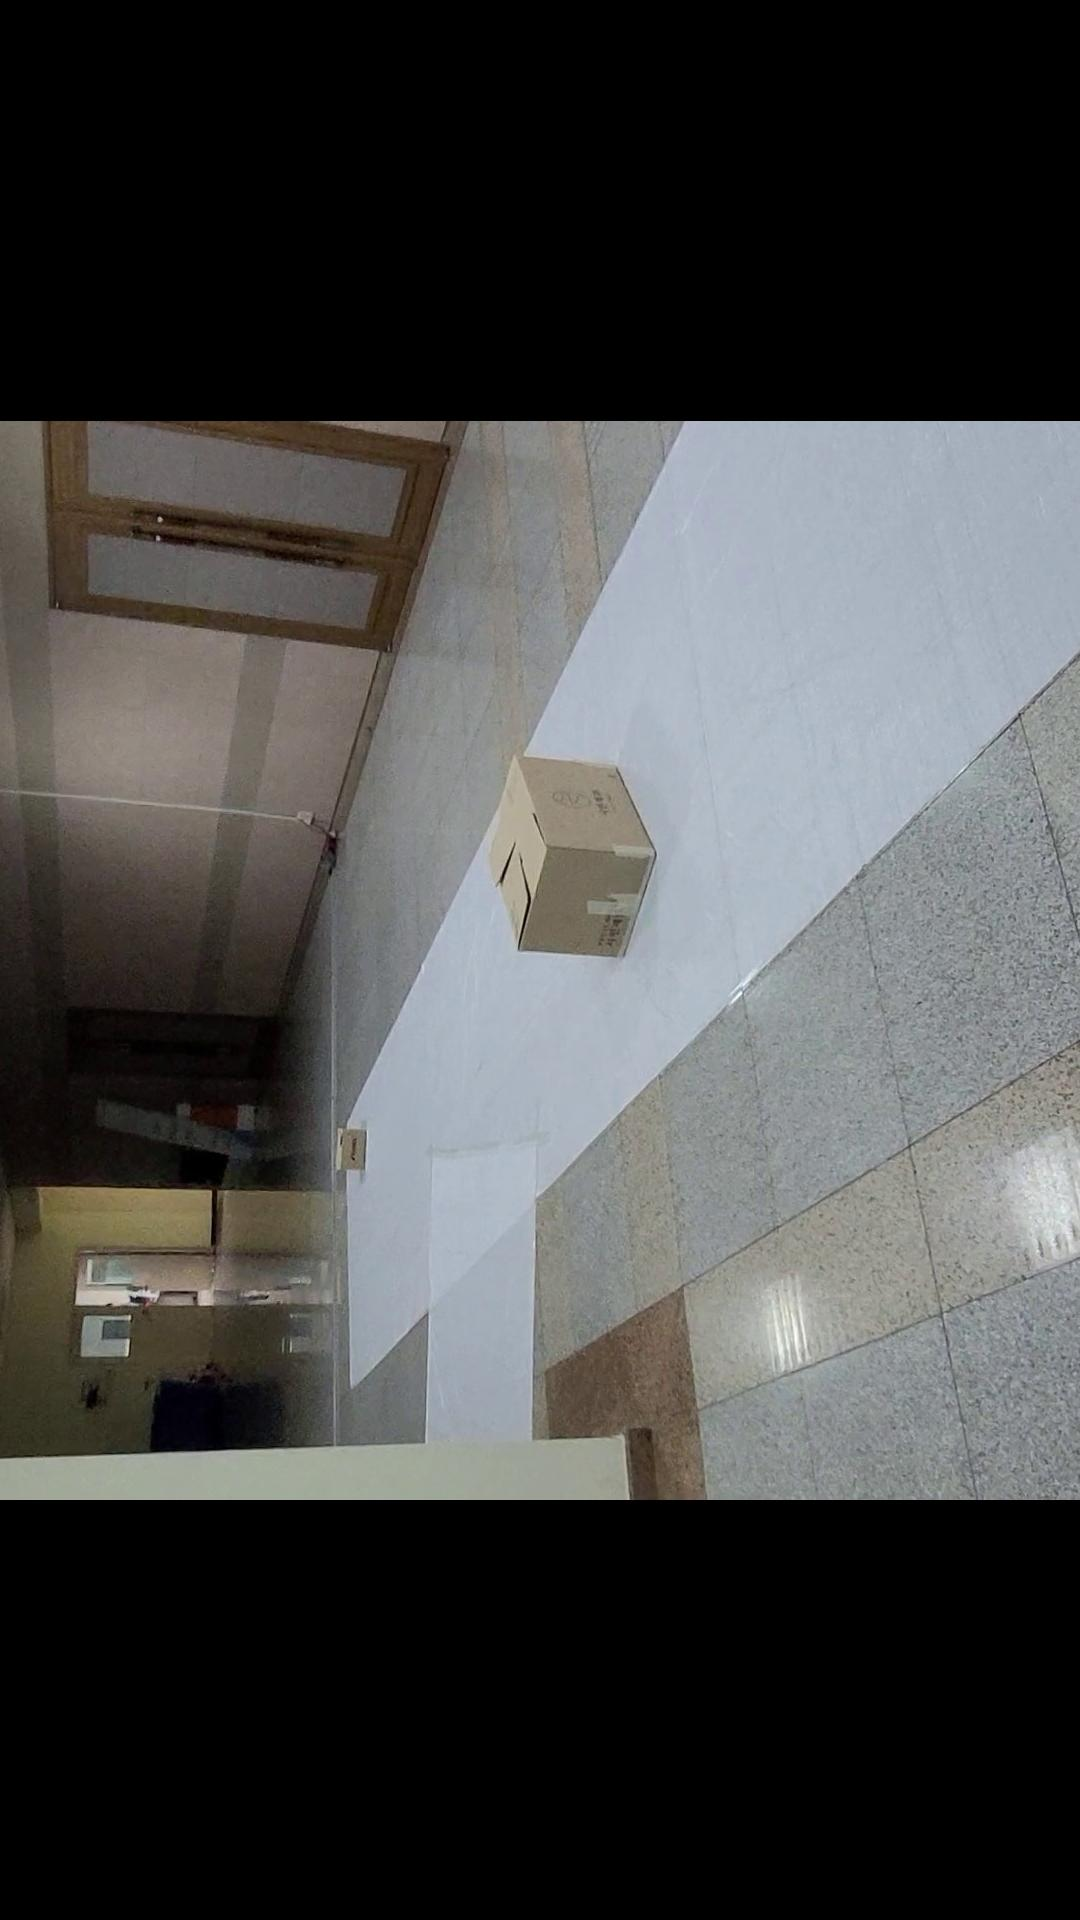Box: (480, 742, 662, 964), (315, 1118, 385, 1178)
